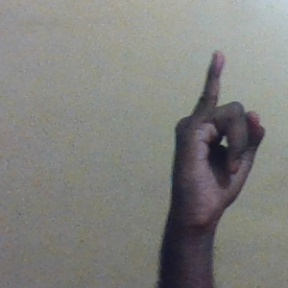I: (163, 49, 266, 228)
